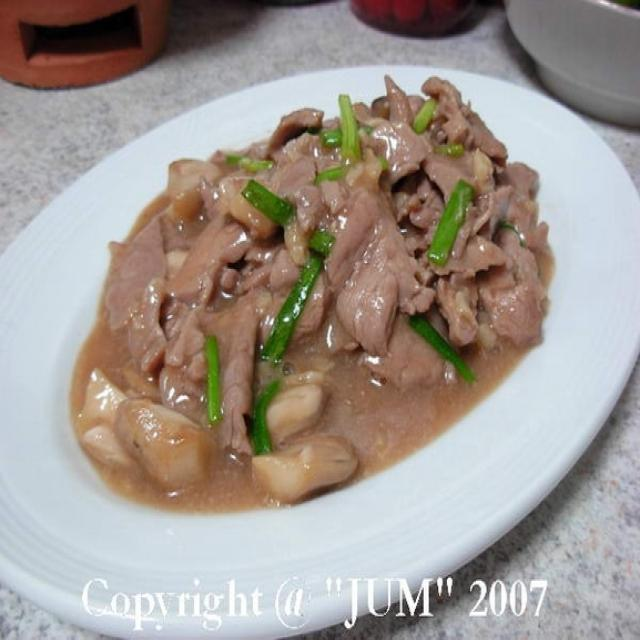牛肉菜式: (36, 63, 601, 570)
